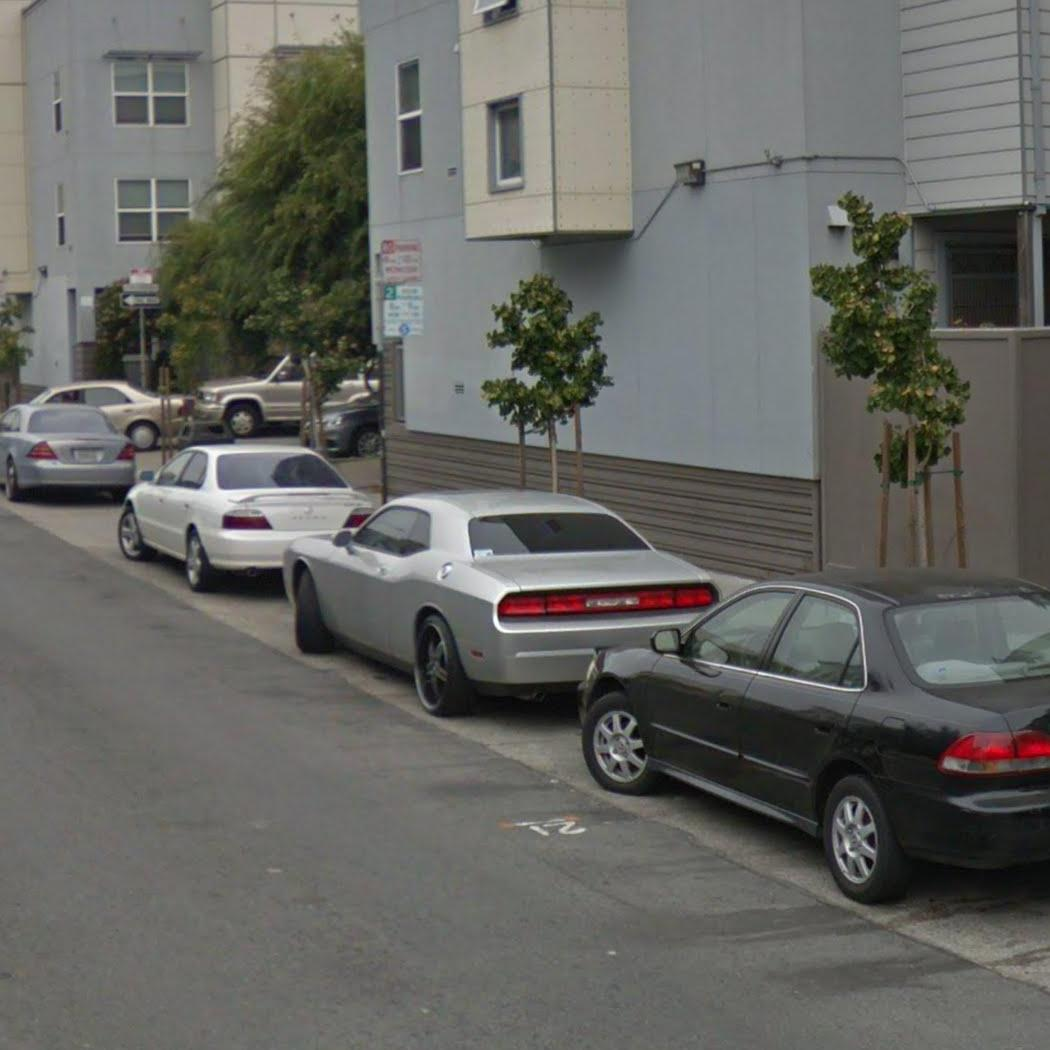2 Hour Parking: (380, 282, 425, 339)
No Parking: (379, 238, 426, 288)
